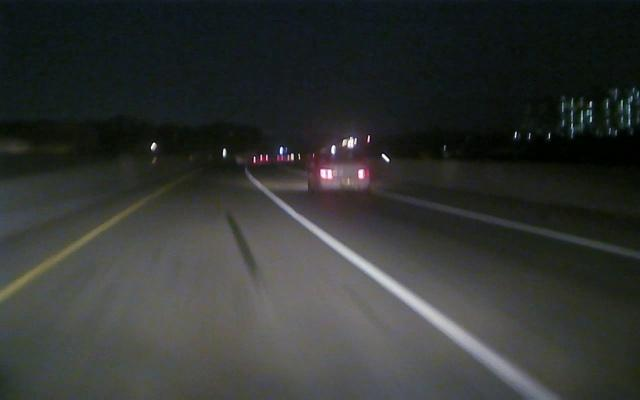lane: (252, 182, 566, 399), (379, 189, 640, 259), (1, 206, 136, 302)
